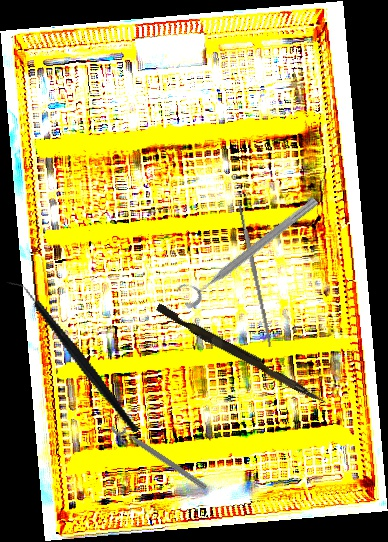Chopper: (5, 257, 141, 456)
Fixation Ring: (173, 186, 322, 311), (109, 415, 213, 493)
Pusher: (153, 303, 331, 406)
Scalpel Handle: (237, 204, 274, 348)
